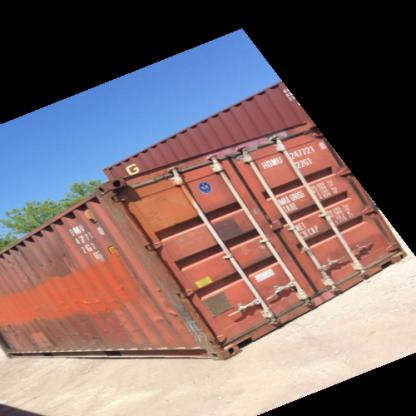Damage: (148, 306, 206, 348), (30, 314, 62, 356), (30, 250, 76, 266), (70, 330, 102, 350), (78, 292, 106, 309), (2, 317, 16, 349), (108, 276, 128, 297), (0, 250, 25, 264), (112, 316, 127, 334)
